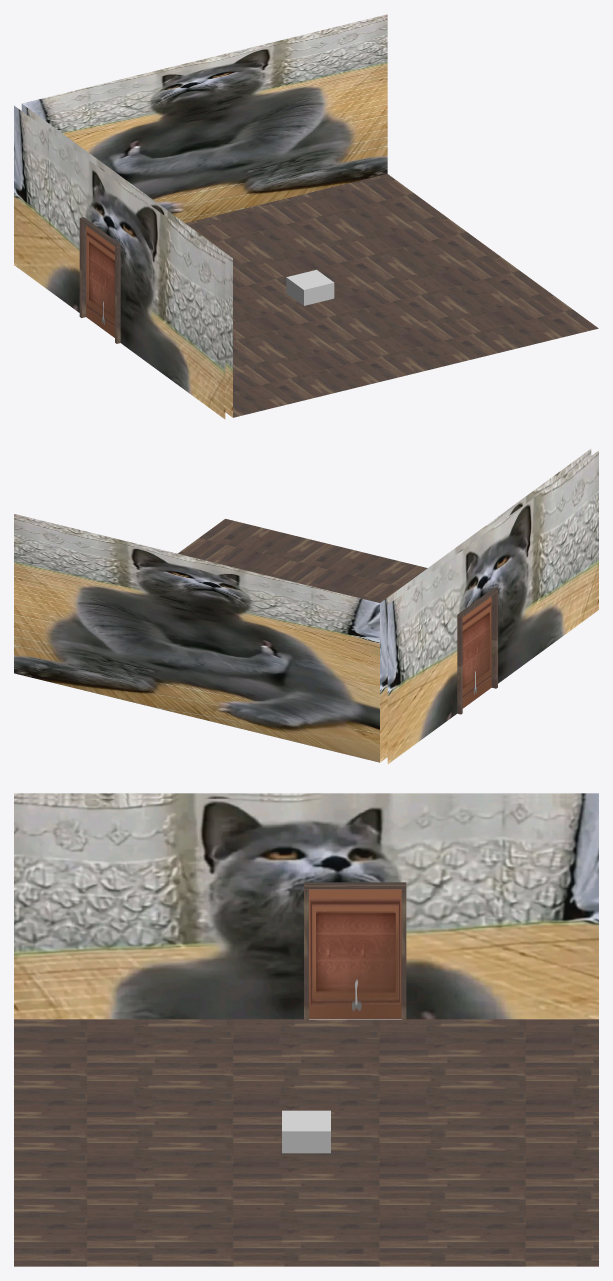
File: catdoor_fixed.glb
3 views of the same model, one above another, from view 1: azimuth 30°, elevation 25°; view 2: azimuth 150°, elevation 25°; view 3: azimuth 270°, elevation 25° (orthographic). The views are drawn at different scales.
Visible parts, largest first — view 1: Plane, Plane.001, Plane.003, Plane.002, door1, Plane.004, Plane.006, Cube, Cube.001, Cube.002, Plane.007; view 2: Plane.001, Plane.003, Plane.002, Plane, door1, Plane.004, Plane.007, Plane.006, Cube.002, Cube.001; view 3: Plane, Plane.006, Plane.007, door1, Plane.005, Cube, Plane.003, Plane.002, Cube.003, Cube.001, Cube.002.
Boxes of the visible parts, x1,y1,x2,y2 form: Plane: [185, 174, 598, 417]; Plane.001: [22, 14, 387, 223]; Plane.003: [119, 183, 225, 419]; Plane.002: [14, 105, 84, 312]; door1: [86, 226, 114, 337]; Plane.004: [84, 157, 119, 242]; Plane.006: [127, 181, 232, 417]; Cube: [286, 269, 334, 305]; Cube.001: [79, 221, 85, 317]; Cube.002: [115, 247, 120, 343]; Plane.007: [21, 104, 91, 161]; Plane.001: [14, 514, 379, 762]; Plane.003: [493, 450, 598, 683]; Plane.002: [387, 554, 457, 763]; Plane: [178, 519, 427, 602]; door1: [462, 596, 491, 708]; Plane.004: [458, 528, 493, 613]; Plane.007: [380, 552, 450, 762]; Plane.006: [485, 449, 591, 532]; Cube.002: [491, 592, 497, 688]; Cube.001: [457, 618, 462, 714]; Plane: [14, 1019, 598, 1266]; Plane.006: [14, 798, 306, 1019]; Plane.007: [404, 798, 598, 1019]; door1: [309, 889, 401, 1018]; Plane.005: [306, 798, 403, 882]; Cube: [282, 1110, 330, 1153]; Plane.003: [14, 793, 306, 798]; Plane.002: [404, 793, 598, 798]; Cube.003: [304, 882, 406, 889]; Cube.001: [401, 889, 406, 1021]; Cube.002: [304, 889, 308, 1021].
Size of the model in its own units: 24.75 by 11 by 24.
Materials: 4 (3 with a texture image).
